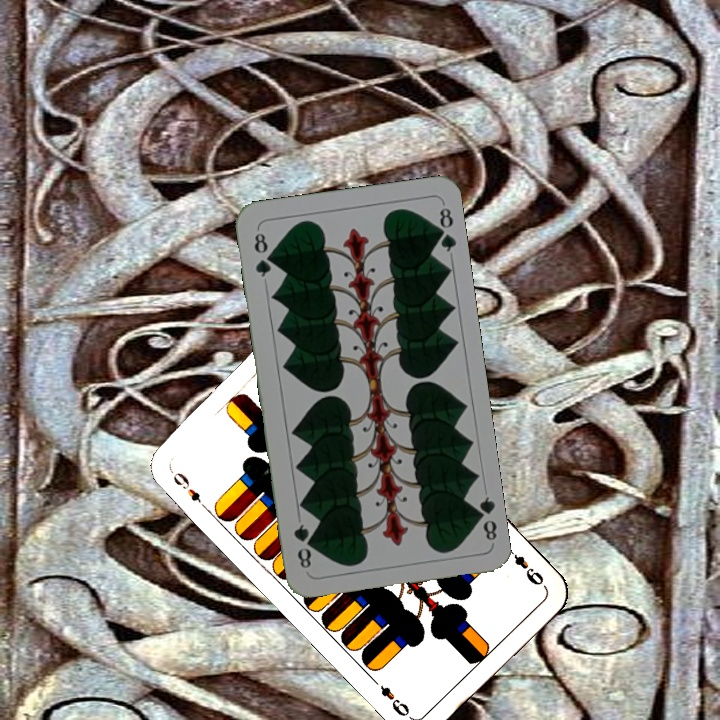E9: (165, 465, 210, 513), (502, 543, 547, 589)
G8: (469, 492, 500, 543), (250, 228, 275, 280)
